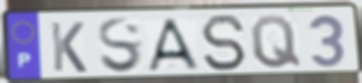3: (307, 12, 348, 70)
A: (144, 17, 203, 74)
K: (48, 20, 89, 74)
Q: (249, 14, 304, 71)
S: (198, 14, 248, 74), (96, 16, 145, 76)
